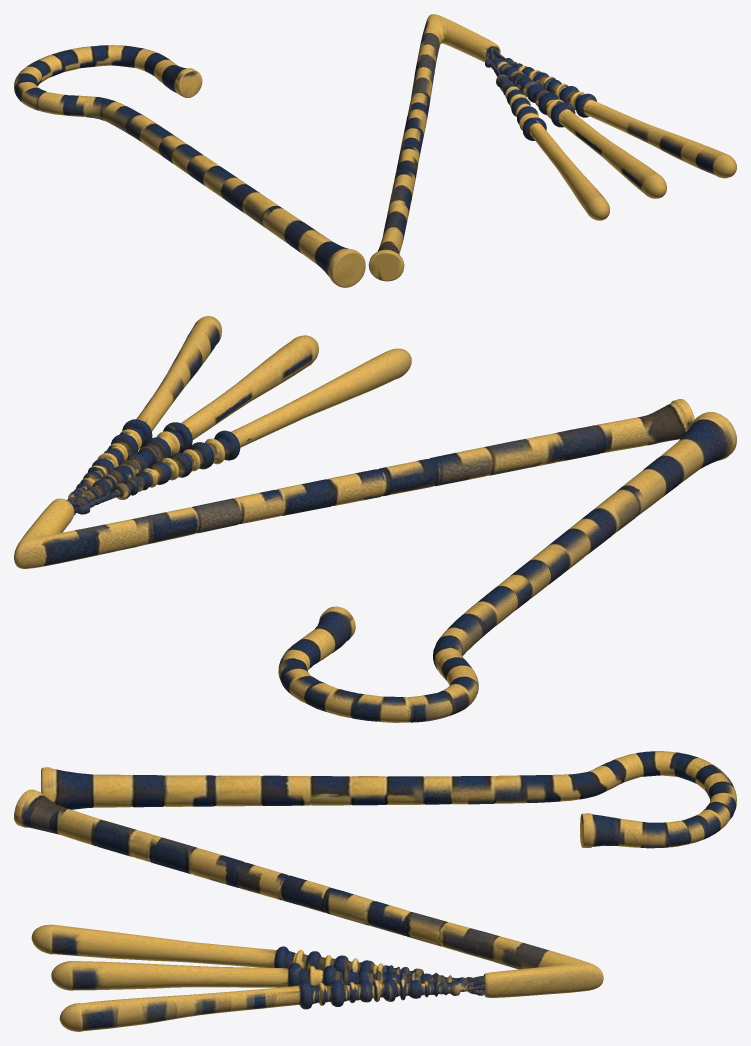
The model's file is crook-staff-ai.glb.
3 views of the same model, one above another, from view 1: azimuth 30°, elevation 25°; view 2: azimuth 150°, elevation 25°; view 3: azimuth 270°, elevation 25° (orthographic). The views are drawn at different scales.
Bounding box in the file's own units: 1.67 × 0.1221 × 1.9.
1 material, 1 textured.
